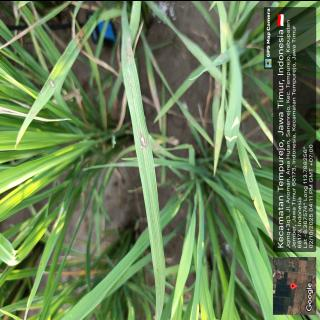Blast: (138, 132, 147, 148)
